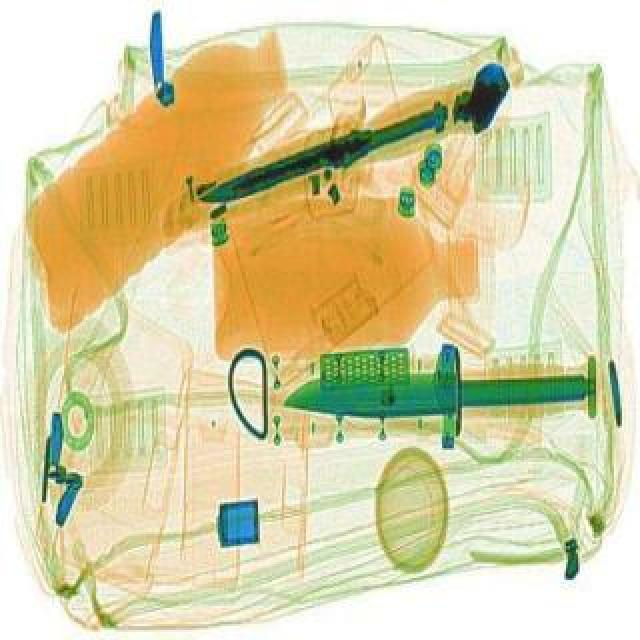knife: (282, 338, 598, 448), (192, 94, 456, 210)
